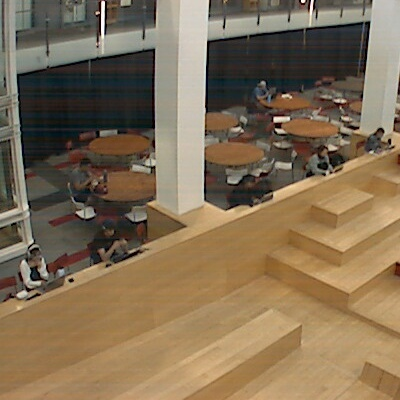head: (23, 243, 44, 264), (98, 219, 117, 238), (241, 173, 258, 190), (78, 156, 94, 172), (370, 127, 385, 142), (315, 147, 328, 160), (255, 80, 267, 92)
